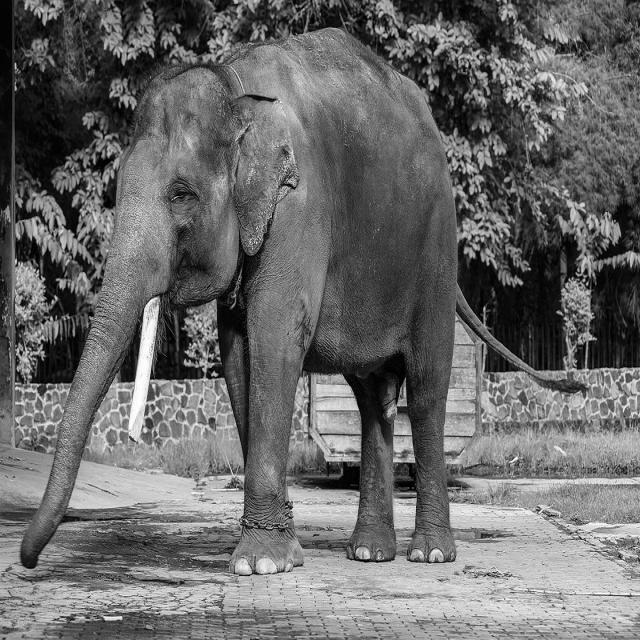Elephant: (19, 26, 568, 576)
